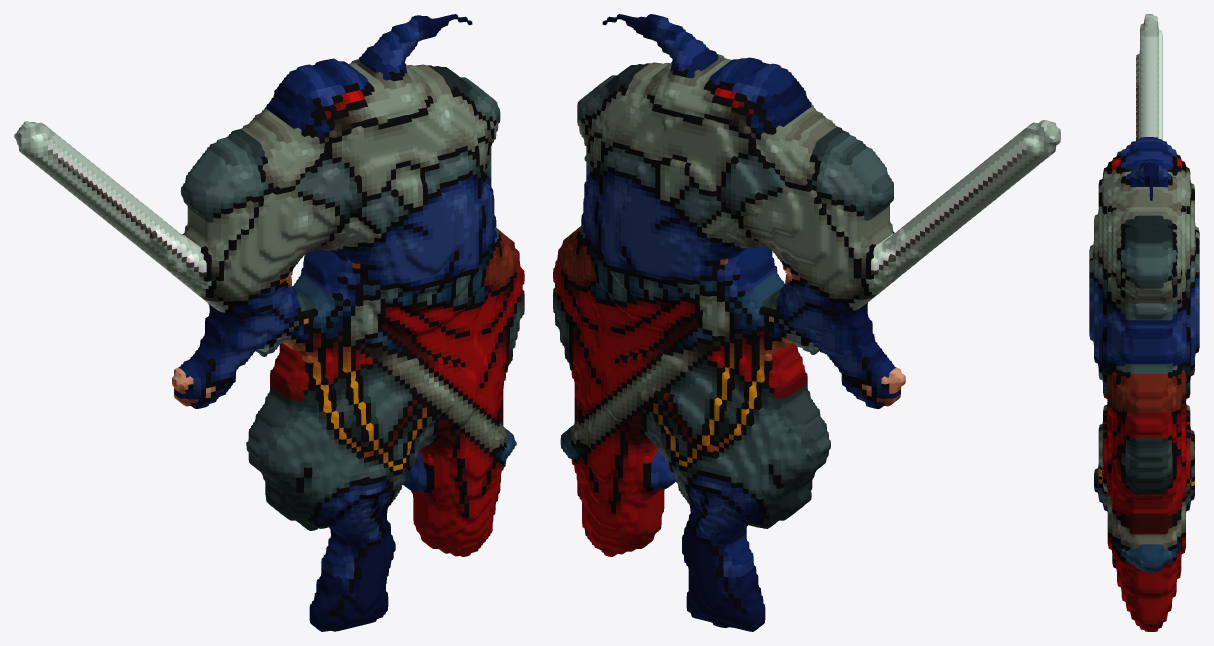
The model's file is Fight_001_1_03.obj.
3 views of the same model, side by side, from view 1: azimuth 30°, elevation 25°; view 2: azimuth 150°, elevation 25°; view 3: azimuth 270°, elevation 25° (orthographic). The views are drawn at different scales.
Bounding box in the file's own units: 10.3 × 11.6 × 2.4.
Materials: 1 (1 with a texture image).
